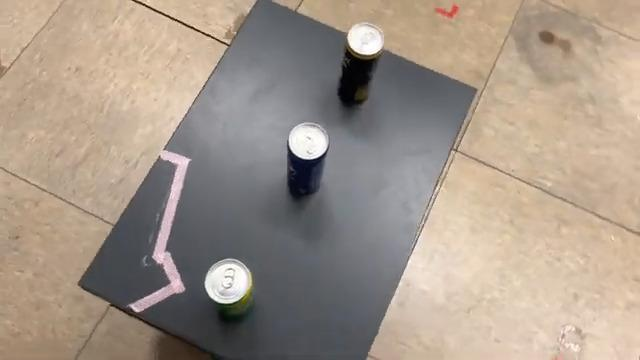OranSoda: (334, 19, 388, 112)
Pepsi: (282, 121, 332, 204)
Sprite: (200, 255, 258, 327)
